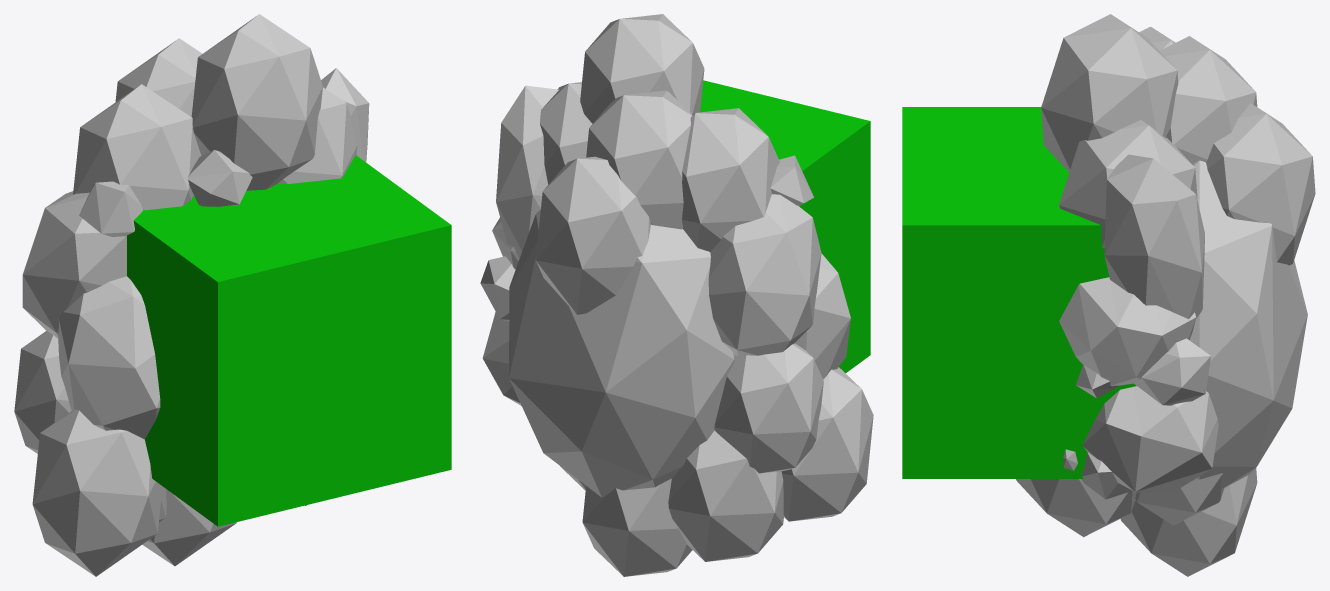
Rendered from world.obj.
3 renders of one model, left to right at view 1: azimuth 30°, elevation 25°; view 2: azimuth 150°, elevation 25°; view 3: azimuth 270°, elevation 25°, orthographic. The views are drawn at different scales.
Visible parts, largest first — view 1: Cube_Cube.001, Icosphere.015_Icosphere.016; view 2: Icosphere.015_Icosphere.016, Cube_Cube.001; view 3: Icosphere.015_Icosphere.016, Cube_Cube.001.
Boxes of the visible parts, bbox=[...] form: Cube_Cube.001: bbox=[127, 155, 451, 526]; Icosphere.015_Icosphere.016: bbox=[14, 14, 369, 576]; Icosphere.015_Icosphere.016: bbox=[480, 14, 873, 576]; Cube_Cube.001: bbox=[700, 80, 870, 373]; Icosphere.015_Icosphere.016: bbox=[1016, 14, 1315, 576]; Cube_Cube.001: bbox=[902, 107, 1136, 478].
Size of the model in its own units: 30.92 by 44.87 by 29.52.
